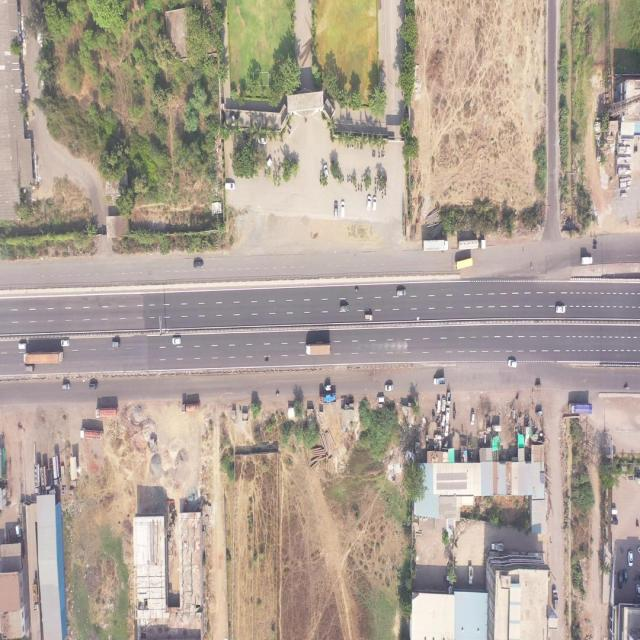3W: (534, 409, 544, 418), (322, 385, 332, 391), (534, 384, 542, 389)
Bus: (455, 257, 473, 270)
Cars: (257, 134, 267, 146), (628, 552, 635, 569), (340, 200, 346, 219), (265, 156, 273, 170), (633, 586, 640, 602), (224, 181, 236, 190), (617, 573, 623, 590), (507, 359, 517, 369), (193, 259, 204, 268), (89, 382, 100, 391), (372, 196, 378, 212), (470, 412, 476, 427), (384, 382, 393, 392), (397, 288, 407, 297), (556, 305, 566, 314), (340, 303, 350, 312), (62, 382, 71, 391), (112, 341, 121, 350), (172, 336, 182, 344), (324, 164, 329, 180), (18, 342, 28, 350), (335, 200, 339, 219), (61, 339, 69, 348), (367, 196, 371, 212), (442, 396, 446, 412), (437, 401, 441, 415), (25, 366, 34, 372), (442, 414, 446, 427), (378, 396, 385, 403), (446, 408, 449, 423)
LCV: (491, 541, 505, 553), (468, 564, 474, 587), (581, 255, 593, 266), (433, 376, 446, 385), (364, 312, 374, 321), (354, 287, 359, 293)
M2W: (374, 175, 377, 185), (624, 385, 630, 390), (265, 357, 269, 364), (361, 174, 364, 183), (381, 191, 384, 200), (275, 171, 278, 180), (378, 151, 381, 160), (275, 392, 280, 397), (357, 142, 360, 149), (593, 242, 598, 246), (347, 175, 349, 184), (358, 183, 360, 192), (374, 149, 376, 158), (384, 150, 386, 159), (342, 174, 344, 183), (351, 175, 353, 184), (356, 185, 358, 194), (375, 186, 377, 195), (361, 143, 363, 152), (361, 185, 363, 193), (385, 189, 387, 196), (352, 143, 354, 149), (593, 248, 597, 251)
MAV: (24, 352, 63, 364), (457, 238, 486, 250)
Truck: (80, 427, 105, 443), (305, 343, 333, 356), (568, 402, 593, 415), (94, 406, 119, 419), (423, 240, 450, 252), (318, 393, 337, 407), (181, 402, 201, 415), (552, 587, 559, 612)
